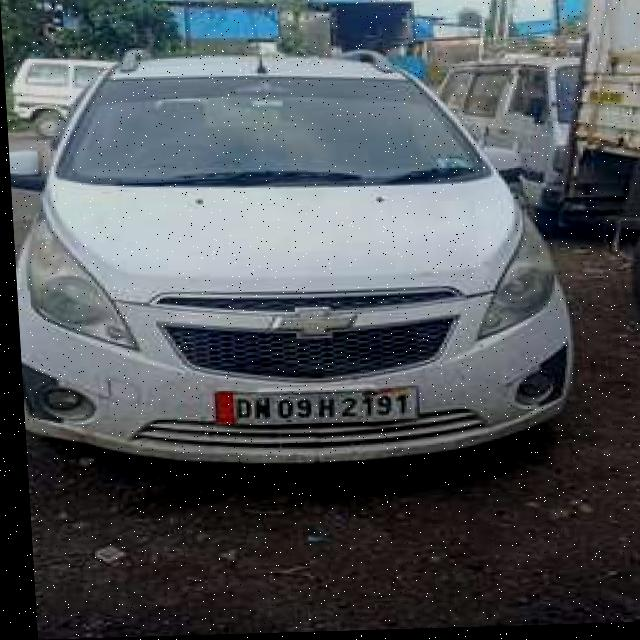plate: (207, 385, 414, 430)
